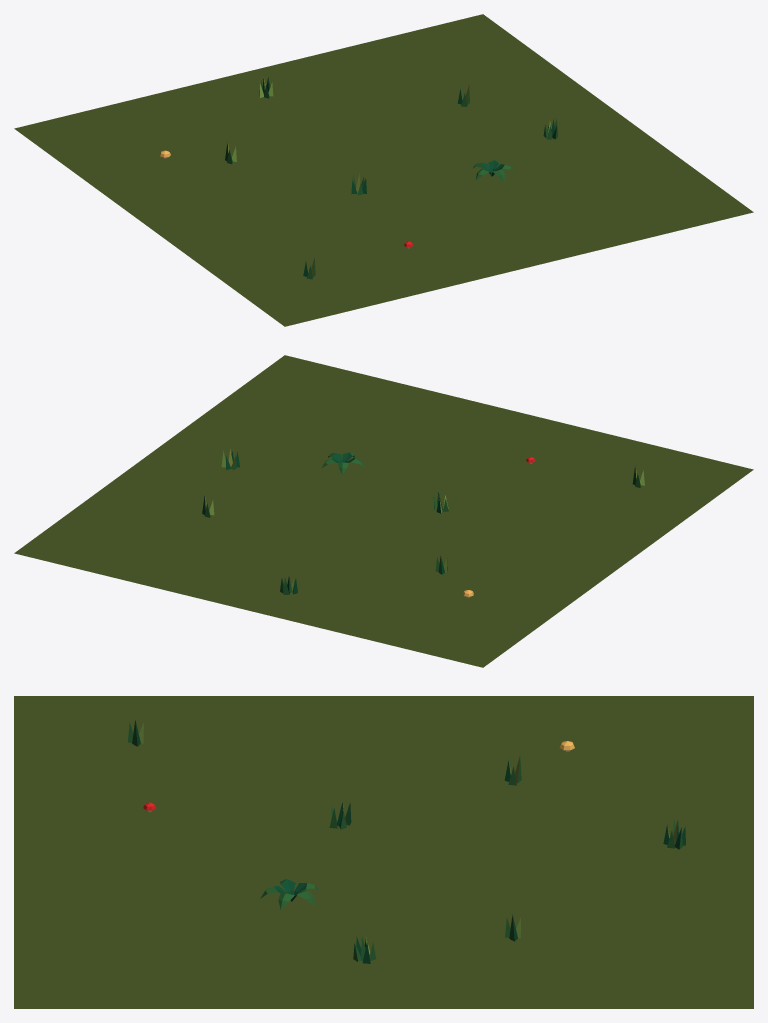
The model's file is TB_Env_GroundBB.FBX.
The picture shows the model from 3 angles, top to bottom: view 1: azimuth 30°, elevation 25°; view 2: azimuth 150°, elevation 25°; view 3: azimuth 270°, elevation 25°; orthographic projection. The views are drawn at different scales.
Parts seen in each view (by area): view 1: TB_Env_GroundBB; view 2: TB_Env_GroundBB; view 3: TB_Env_GroundBB.
Boxes of the visible parts, x1,y1,x2,y2 form: TB_Env_GroundBB: (14, 14, 753, 326); TB_Env_GroundBB: (14, 355, 753, 667); TB_Env_GroundBB: (14, 696, 753, 1008).
Bounding box in the file's own units: 10 × 0.394 × 10.
